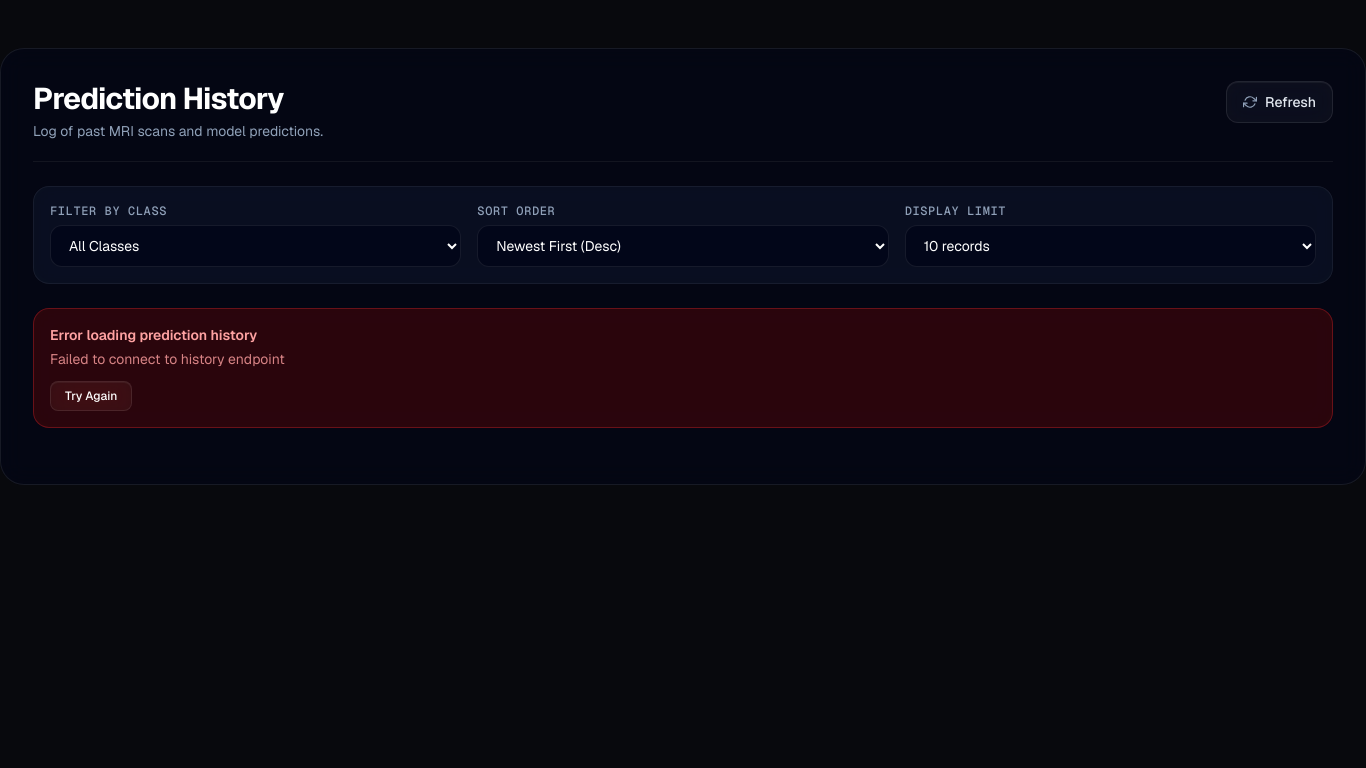
Test: HistoryCard Component › handles fetch error and allows retry via Try Again button
The image size is (1366, 768).
expect the text "Error loading prediction history" is shown: met, box x1=50 y1=326 x2=257 y2=344
expect the text "Failed to connect to history endpoint" is shown: met, box x1=50 y1=350 x2=285 y2=368
Click the button "Try Again" at (91, 396), box x1=50 y1=381 x2=132 y2=411
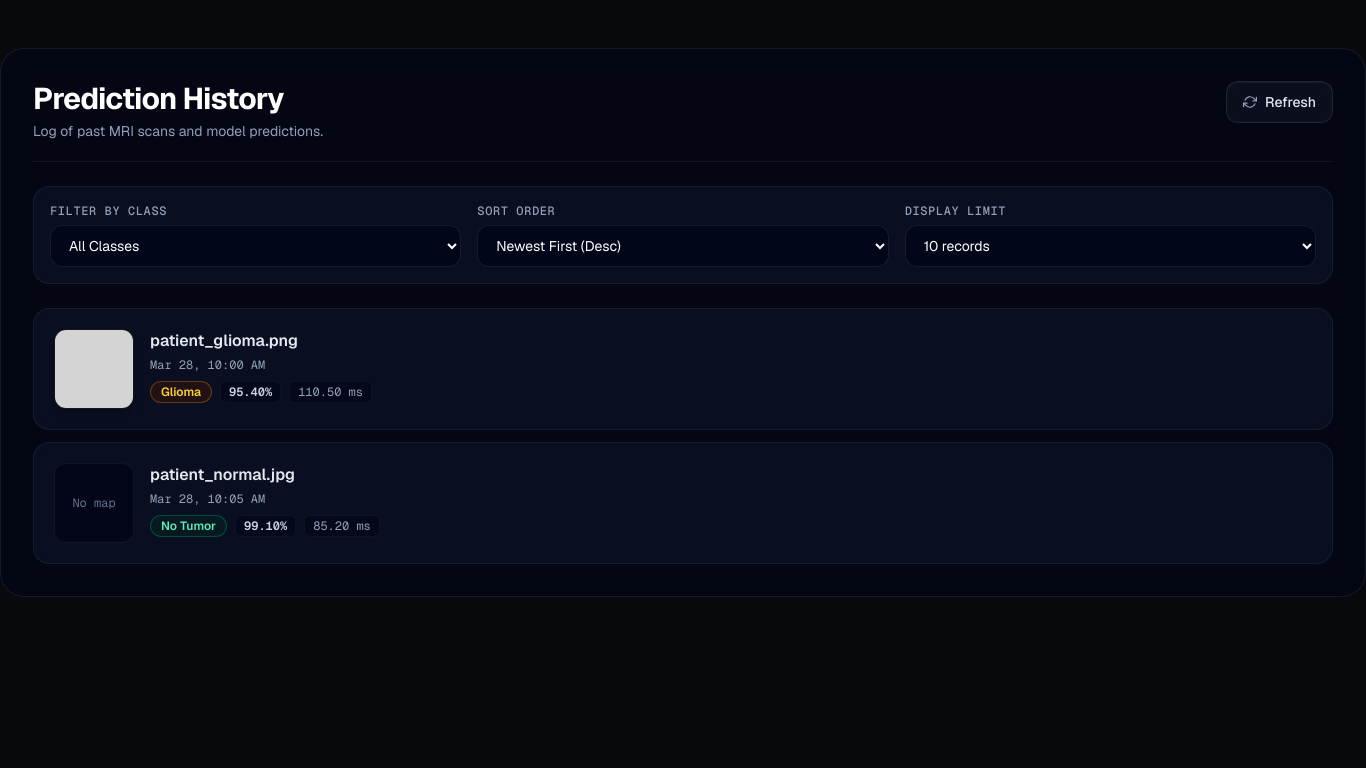
expect the text "patient_glioma.png" is shown: met, box x1=150 y1=330 x2=298 y2=351
expect the text "Error loading prediction history" is gone: met
